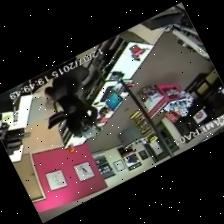person: (44, 56, 90, 99), (56, 95, 97, 137)
